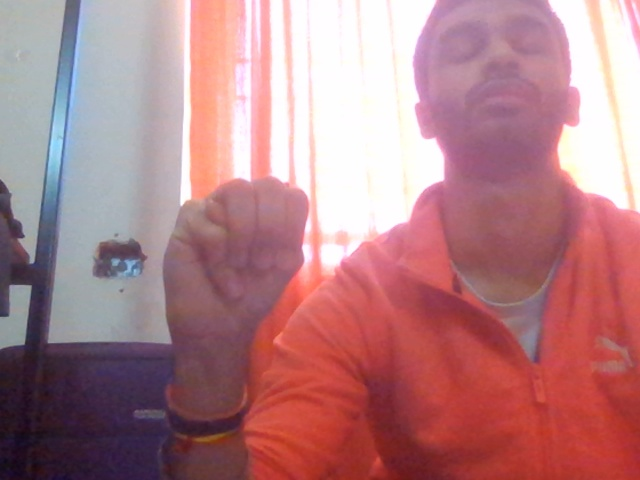M: (150, 160, 335, 388)
